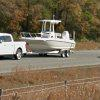Boat: (18, 14, 77, 64)
